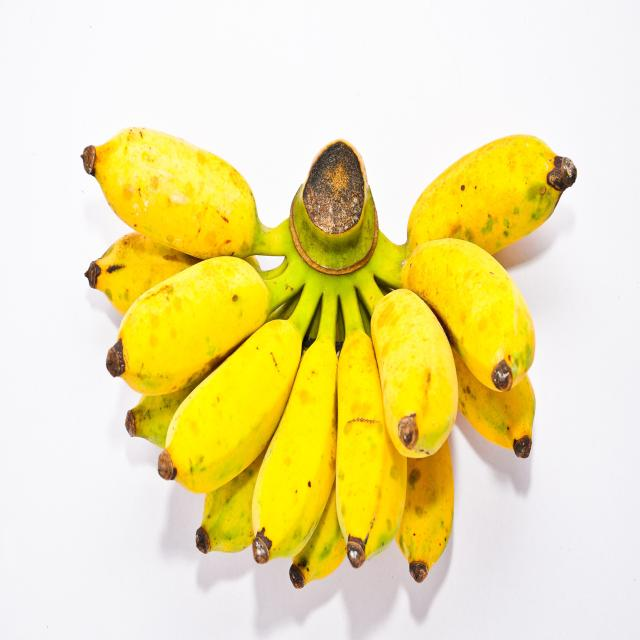Banana: (159, 320, 301, 493), (82, 128, 261, 258), (106, 256, 269, 395), (401, 239, 535, 391), (408, 136, 576, 254), (252, 339, 338, 563), (336, 331, 406, 568), (371, 288, 458, 457)
